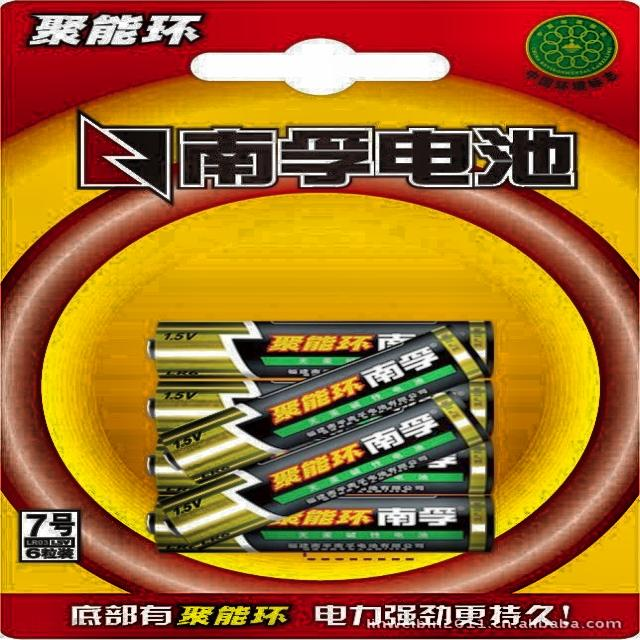Non-Valuable Waste - Batteries: (151, 328, 488, 550), (160, 326, 490, 481)
